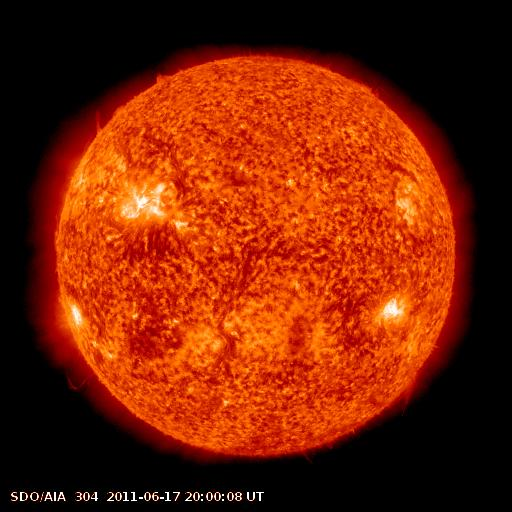prominence: (65, 353, 98, 399), (142, 63, 182, 96), (84, 102, 110, 137)
